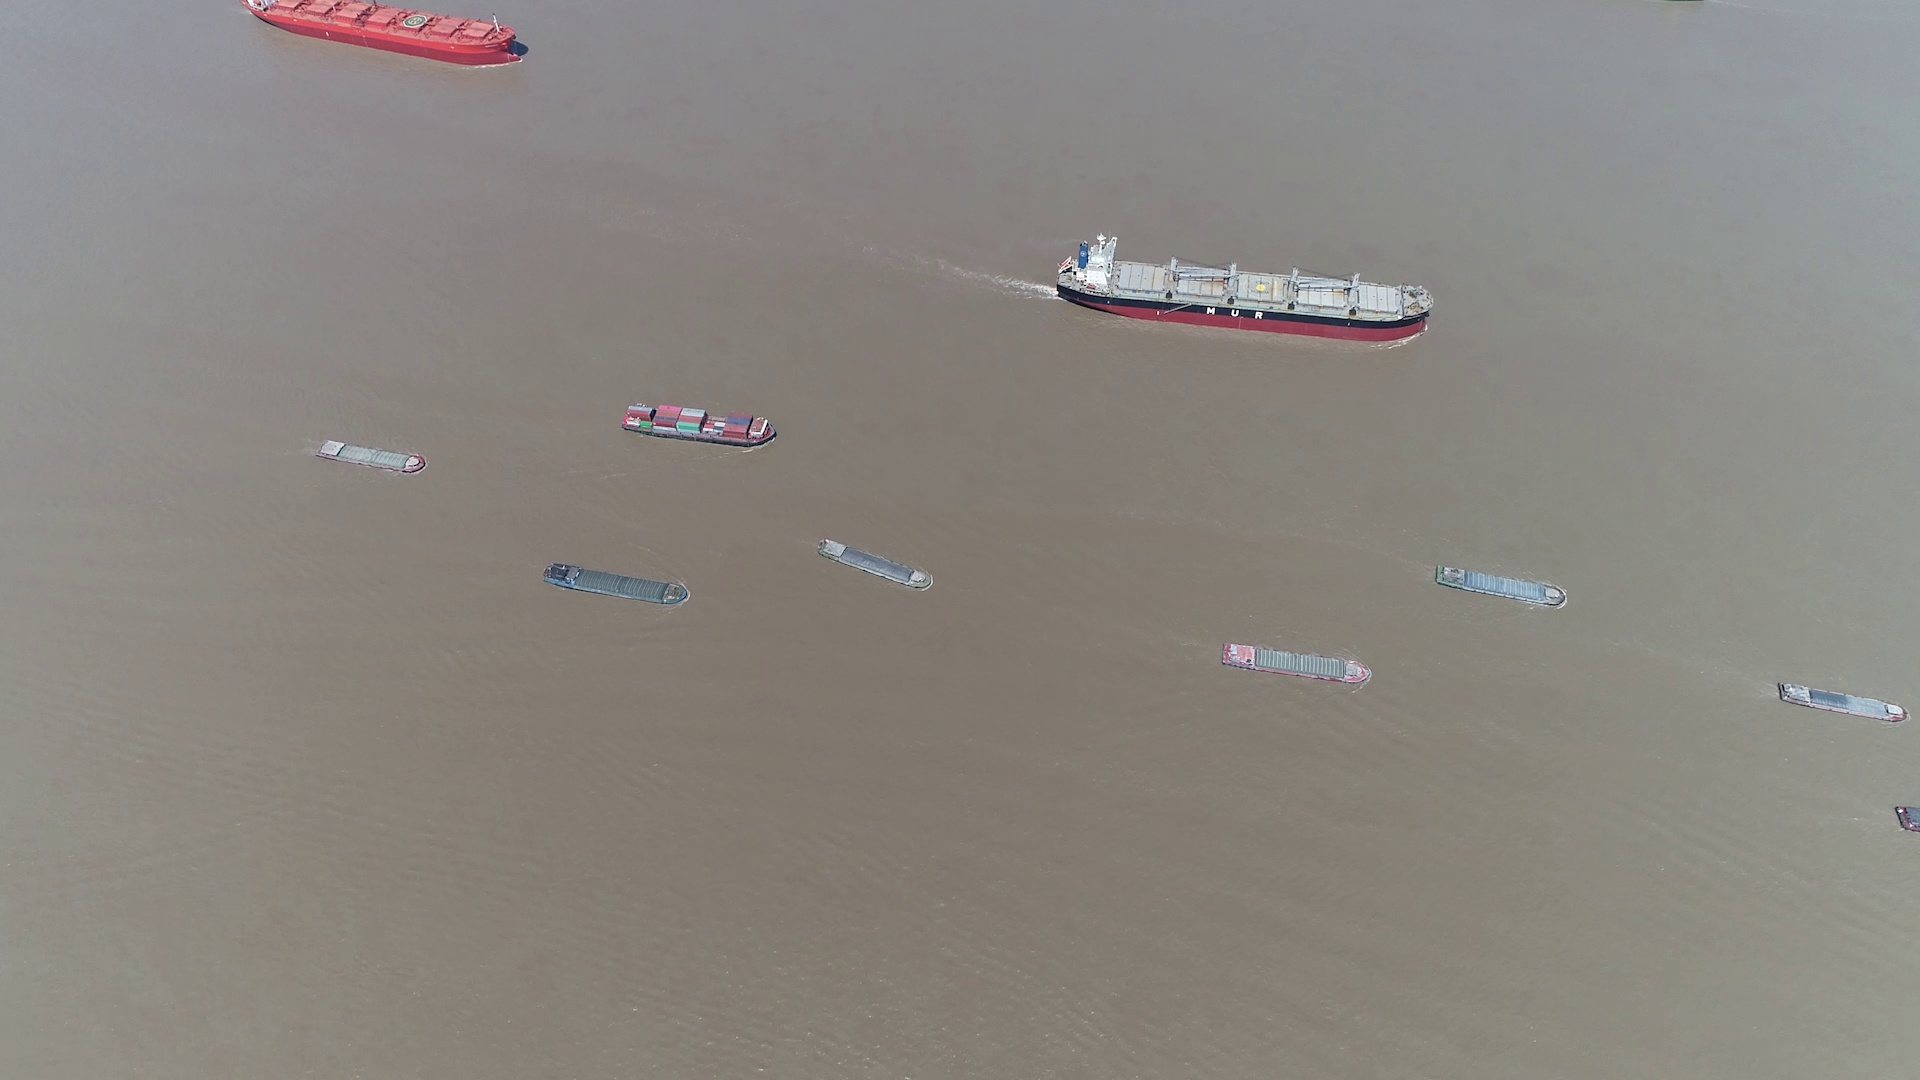ship: (1058, 237, 1437, 342), (244, 0, 524, 66), (622, 404, 775, 447), (1218, 644, 1371, 684), (545, 564, 691, 607), (1432, 564, 1567, 608), (819, 541, 934, 591), (1774, 683, 1905, 723), (316, 438, 427, 472)
